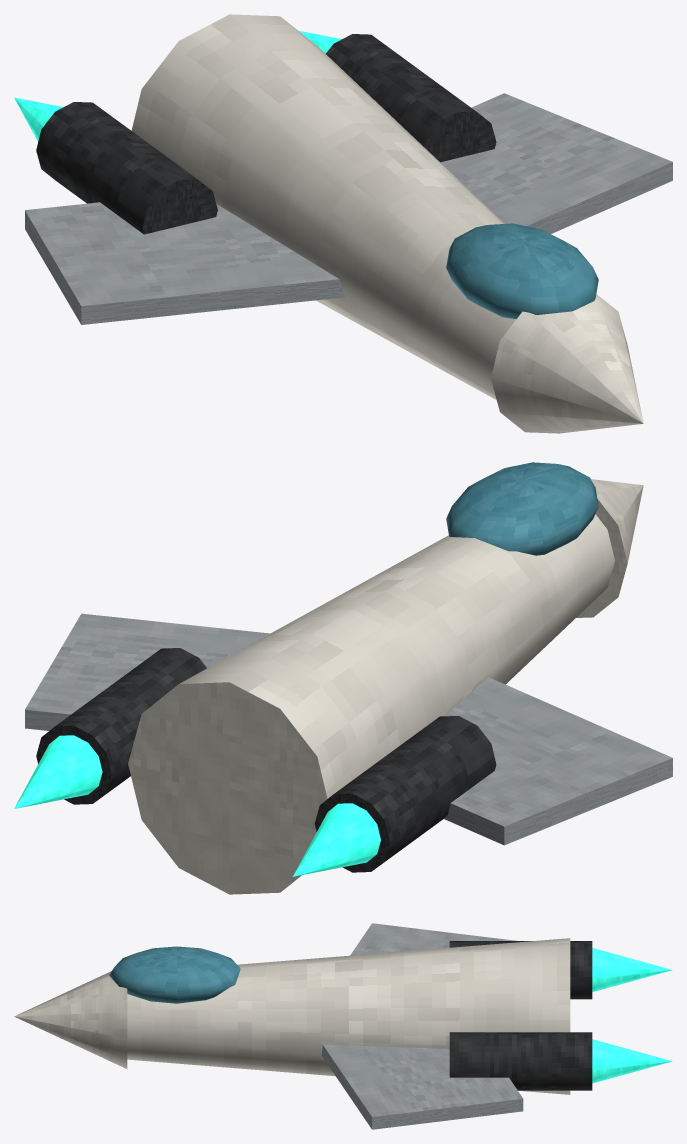
The model's file is meridian-hymn.glb.
3 renders of one model, top to bottom at view 1: azimuth 30°, elevation 25°; view 2: azimuth 150°, elevation 25°; view 3: azimuth 270°, elevation 25°, orthographic. The views are drawn at different scales.
Parts seen in each view (by area): view 1: fuselage, wing (×2), engine pod (×2), flight nose, flight deck glass, engine core; view 2: fuselage, wing (×2), engine pod (×2), flight deck glass, engine core (×2), flight nose; view 3: fuselage, wing (×2), engine pod (×2), flight nose, flight deck glass, engine core (×2).
Boxes of the visible parts, x1,y1,x2,y2 form: fuselage: [131, 14, 515, 399]; wing (×2): [25, 93, 672, 324]; engine pod (×2): [36, 34, 496, 234]; flight nose: [491, 294, 643, 433]; flight deck glass: [446, 223, 598, 319]; engine core: [14, 97, 63, 141]; fuselage: [128, 514, 614, 894]; wing (×2): [25, 613, 672, 845]; engine pod (×2): [36, 648, 496, 872]; flight deck glass: [446, 462, 598, 555]; engine core (×2): [14, 735, 380, 876]; flight nose: [576, 479, 643, 617]; fuselage: [127, 938, 570, 1094]; wing (×2): [321, 923, 523, 1129]; engine pod (×2): [449, 941, 592, 1090]; flight nose: [14, 971, 127, 1068]; flight deck glass: [109, 946, 240, 1003]; engine core (×2): [592, 948, 672, 1083].
Size of the model in its own units: 2.51 by 0.86 by 3.6.
Materials: 5 (5 with a texture image).
